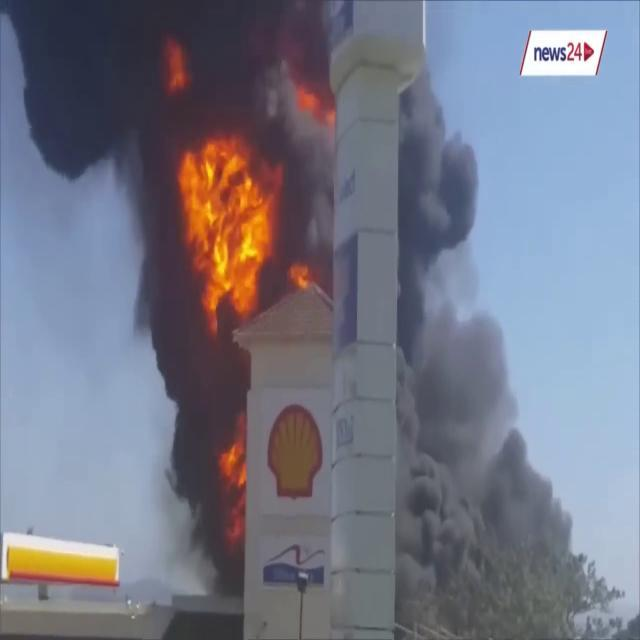Fire: (174, 122, 280, 314)
Smoke: (7, 1, 334, 555), (396, 56, 596, 632)
